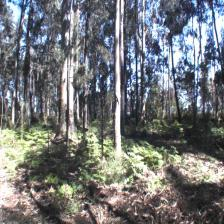trunktrack_idkeyframe: (113, 22, 122, 148), (58, 60, 73, 128)
